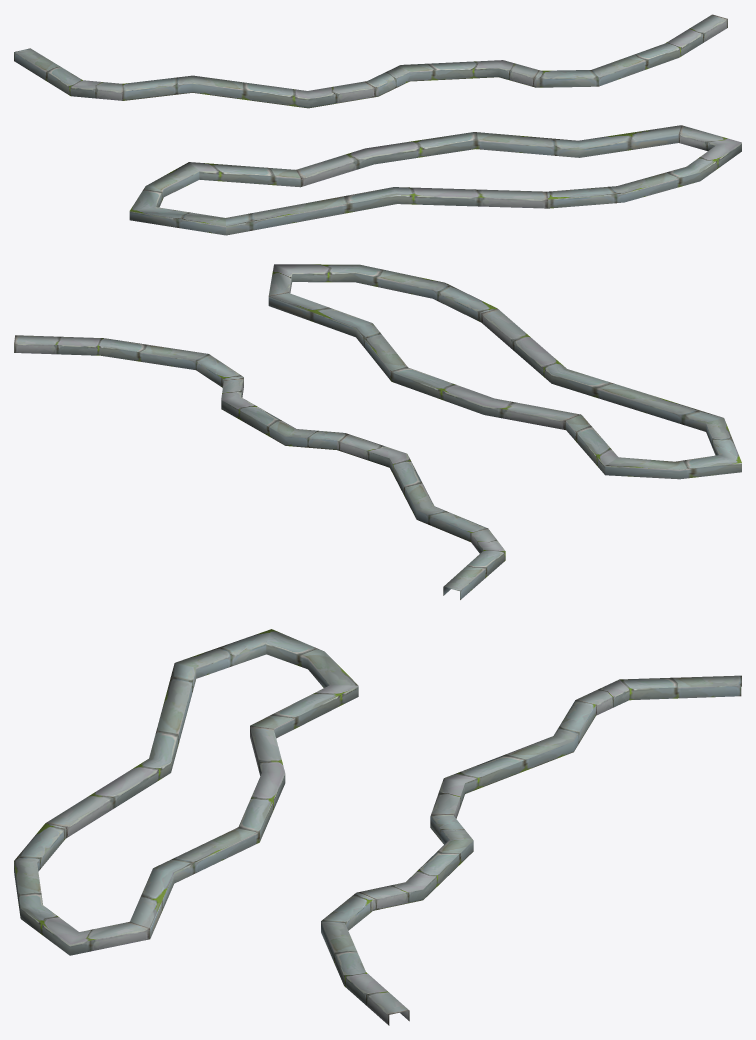
Rendered from Map_06_brick03.FBX.
3 renders of one model, top to bottom at view 1: azimuth 30°, elevation 25°; view 2: azimuth 150°, elevation 25°; view 3: azimuth 270°, elevation 25°, orthographic. The views are drawn at different scales.
Visible parts, largest first — view 1: Map_06_brick03; view 2: Map_06_brick03; view 3: Map_06_brick03.
Boxes of the visible parts, x1,y1,x2,y2 form: Map_06_brick03: (14,14,741,235); Map_06_brick03: (14,264,741,599); Map_06_brick03: (14,629,741,1025).
Size of the model in its own units: 3429 by 2739 by 48.36.
